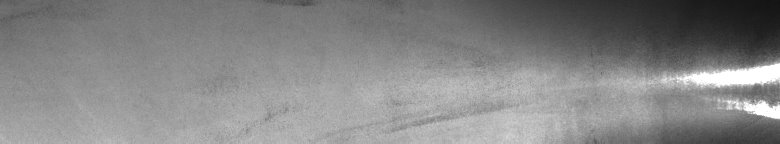ke: (597, 44, 776, 136)
